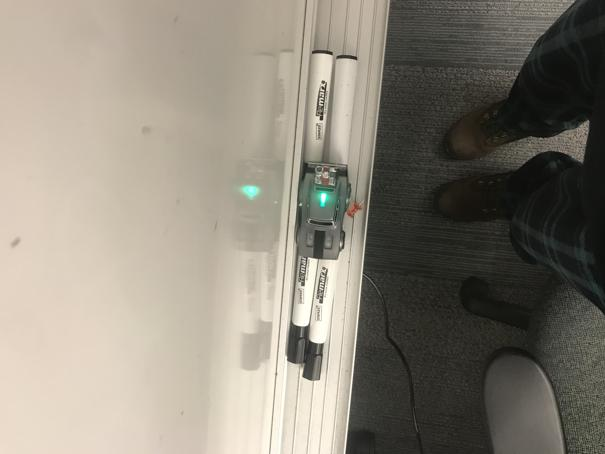Charger: (295, 160, 353, 262)
